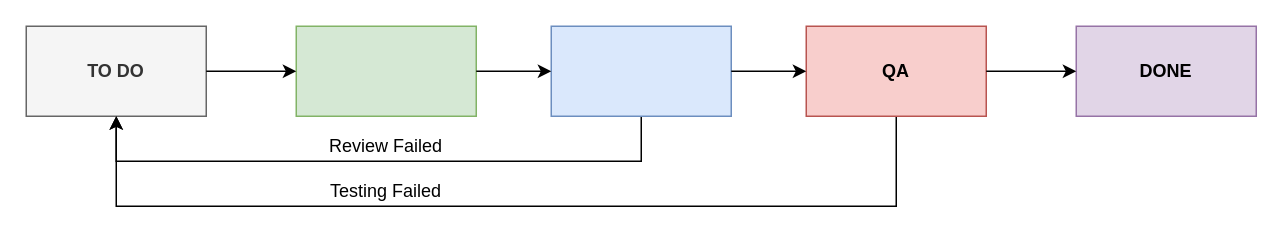
Image size: 1283x245. Some labels were removed from this diagram. Here are the shapes that lost their labels. From the top down, the centre of each, then its label:
At (x=385, y=70): "DEVELOPMENT".
At (x=640, y=70): "CODE REVIEW".
